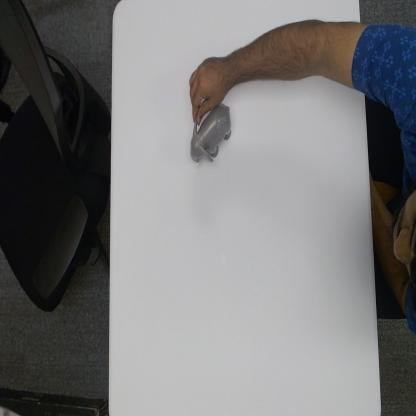Arm: (234, 16, 364, 98)
Elephant: (189, 103, 233, 167)
Hand: (188, 54, 235, 120)
